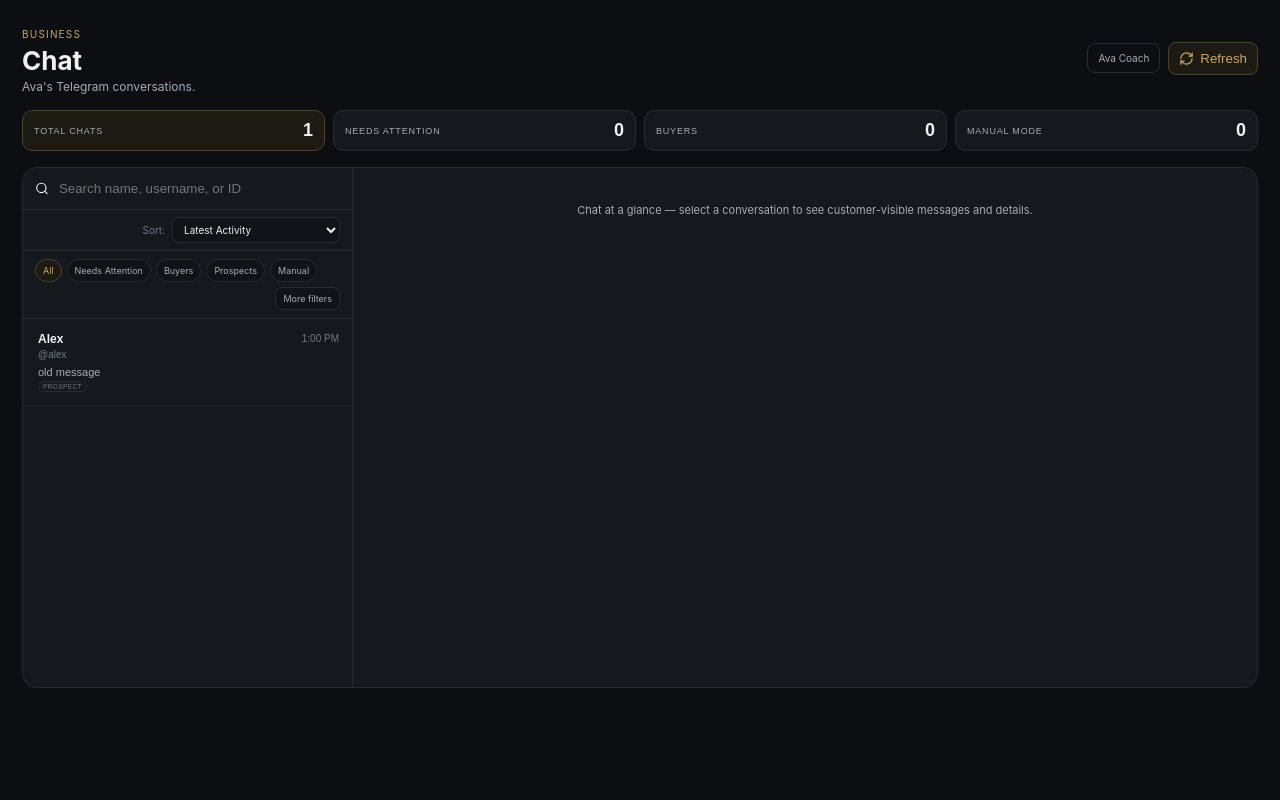
Test: Business Chat live refresh › reconciles an externally changed relationship control mode
Click the button "Alex @alex old message PROSPECT 1:00 PM" at (69, 372), box [23,319,352,406]
Wait 3000 ms
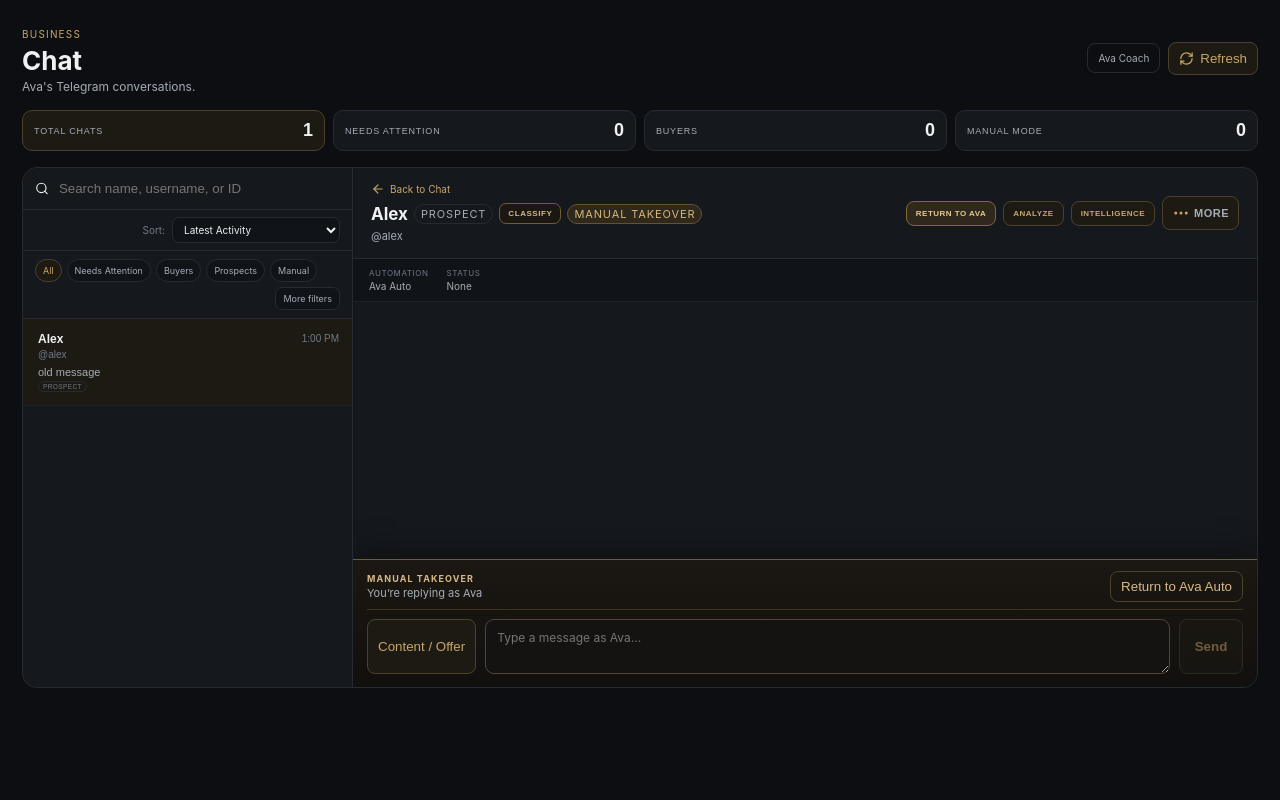
Check: the button "RETURN TO AVA" is shown, box [906,200,996,226]
Check: the text box named "Write a message" is shown, box [485,619,1170,674]
